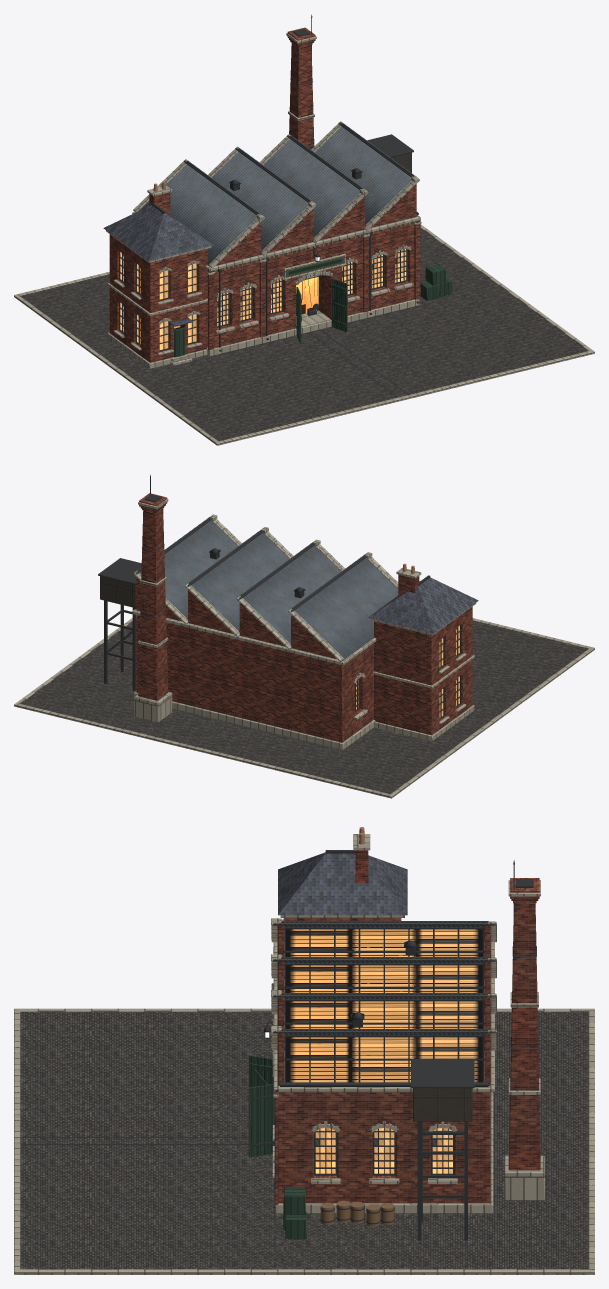
Rendered from factory-a.glb.
The picture shows the model from 3 angles, top to bottom: view 1: azimuth 30°, elevation 25°; view 2: azimuth 150°, elevation 25°; view 3: azimuth 270°, elevation 25°; orthographic projection. The views are drawn at different scales.
Visible parts, largest first — view 1: forecourt-setts, brick-parts, roof-iron-parts, stone-parts, iron-parts, kerb-stone, slate-parts, window-glow-parts, door-planks-parts, office-glow-parts, crate-timber-parts, door-glow-parts; view 2: brick-parts, forecourt-setts, roof-iron-parts, stone-parts, iron-parts, kerb-stone, slate-parts, tank-iron-parts, office-glow-parts; view 3: forecourt-setts, brick-parts, roof-glow-parts, iron-parts, stone-parts, kerb-stone, slate-parts, roof-iron-parts, door-planks-parts, window-glow-parts, tank-iron-parts, barrel-wood-parts (+1 smaller).
Part boxes in pixels (bbox=[...]): forecourt-setts: bbox=[20, 228, 588, 441]; brick-parts: bbox=[109, 27, 420, 362]; roof-iron-parts: bbox=[133, 121, 419, 267]; stone-parts: bbox=[106, 33, 421, 368]; iron-parts: bbox=[119, 14, 419, 351]; kerb-stone: bbox=[14, 224, 594, 445]; slate-parts: bbox=[103, 205, 213, 326]; window-glow-parts: bbox=[217, 249, 406, 325]; door-planks-parts: bbox=[174, 278, 347, 357]; office-glow-parts: bbox=[120, 252, 196, 349]; crate-timber-parts: bbox=[420, 264, 452, 300]; door-glow-parts: bbox=[296, 276, 318, 315]; brick-parts: bbox=[136, 493, 472, 742]; forecourt-setts: bbox=[20, 619, 588, 793]; roof-iron-parts: bbox=[134, 517, 398, 661]; stone-parts: bbox=[132, 498, 475, 750]; iron-parts: bbox=[98, 474, 461, 719]; kerb-stone: bbox=[14, 615, 594, 798]; slate-parts: bbox=[368, 577, 478, 633]; tank-iron-parts: bbox=[100, 576, 136, 607]; office-glow-parts: bbox=[439, 625, 459, 717]; forecourt-setts: bbox=[20, 1012, 588, 1269]; brick-parts: bbox=[274, 850, 540, 1204]; roof-glow-parts: bbox=[286, 929, 482, 1082]; iron-parts: bbox=[253, 850, 538, 1240]; stone-parts: bbox=[271, 834, 544, 1213]; kerb-stone: bbox=[14, 1008, 594, 1274]; slate-parts: bbox=[271, 852, 407, 989]; roof-iron-parts: bbox=[272, 922, 495, 1048]; door-planks-parts: bbox=[248, 1055, 274, 1157]; window-glow-parts: bbox=[315, 1127, 452, 1173]; tank-iron-parts: bbox=[413, 1088, 472, 1121]; barrel-wood-parts: bbox=[320, 1200, 394, 1226].
Size of the model in its own units: 5.86 by 3.53 by 5.46.
Materials: 19 (14 with a texture image).
